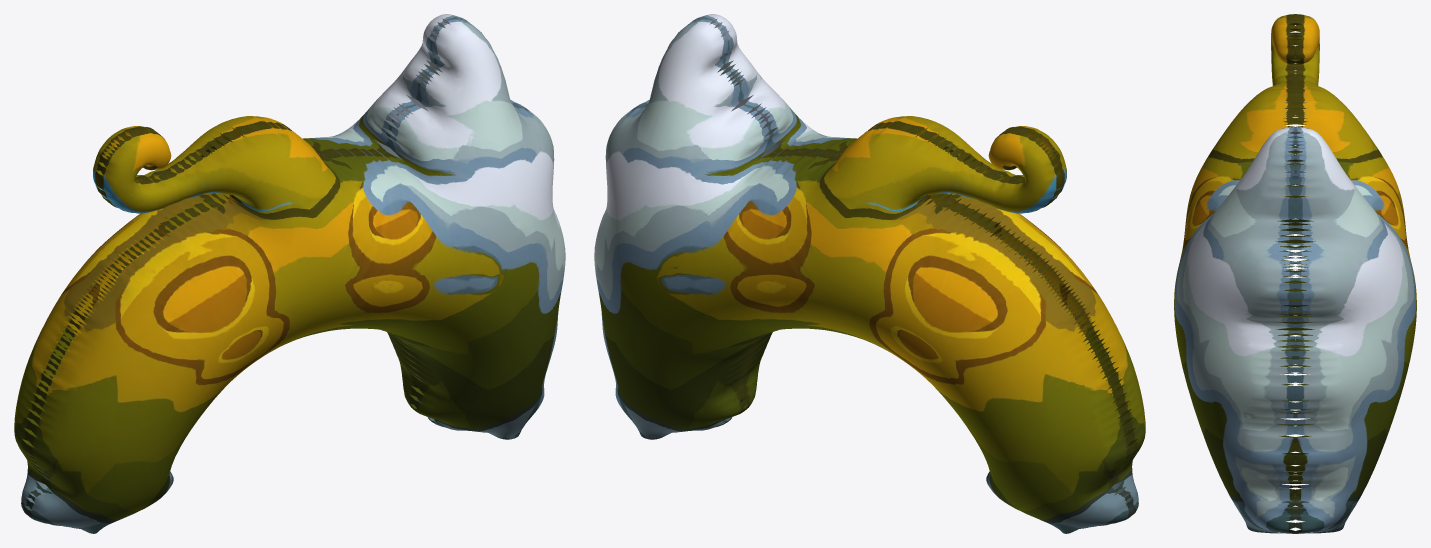
File: arched_root.glb
The picture shows the model from 3 angles, left to right: view 1: azimuth 30°, elevation 25°; view 2: azimuth 150°, elevation 25°; view 3: azimuth 270°, elevation 25°; orthographic projection. The views are drawn at different scales.
Parts seen in each view (by area): view 1: arched_root; view 2: arched_root; view 3: arched_root.
Part boxes in pixels (x1,y1,x2,y2): arched_root: (14,14,565,533); arched_root: (594,14,1145,533); arched_root: (1174,14,1416,533).
Bounding box in the file's own units: 0.989 × 0.7444 × 0.4289.
1 material, 1 textured.
